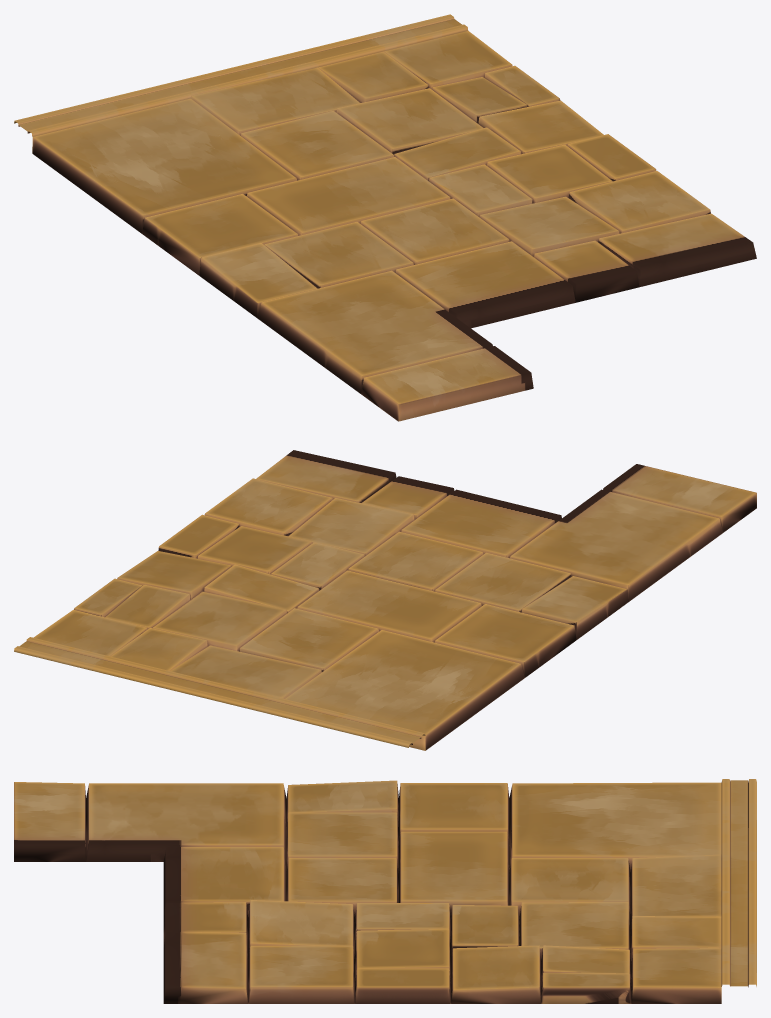
Rendered from MSH_Floor07.fbx.
3 views of the same model, one above another, from view 1: azimuth 30°, elevation 25°; view 2: azimuth 150°, elevation 25°; view 3: azimuth 270°, elevation 25° (orthographic). The views are drawn at different scales.
Visible parts, largest first — view 1: MSH_Floor07; view 2: MSH_Floor07; view 3: MSH_Floor07.
Part boxes in pixels (left/top/right/bottom): MSH_Floor07: left=14, top=14, right=756, bottom=421; MSH_Floor07: left=14, top=450, right=756, bottom=750; MSH_Floor07: left=14, top=779, right=756, bottom=1003.
Size of the model in its own units: 550 by 24.27 by 840.
